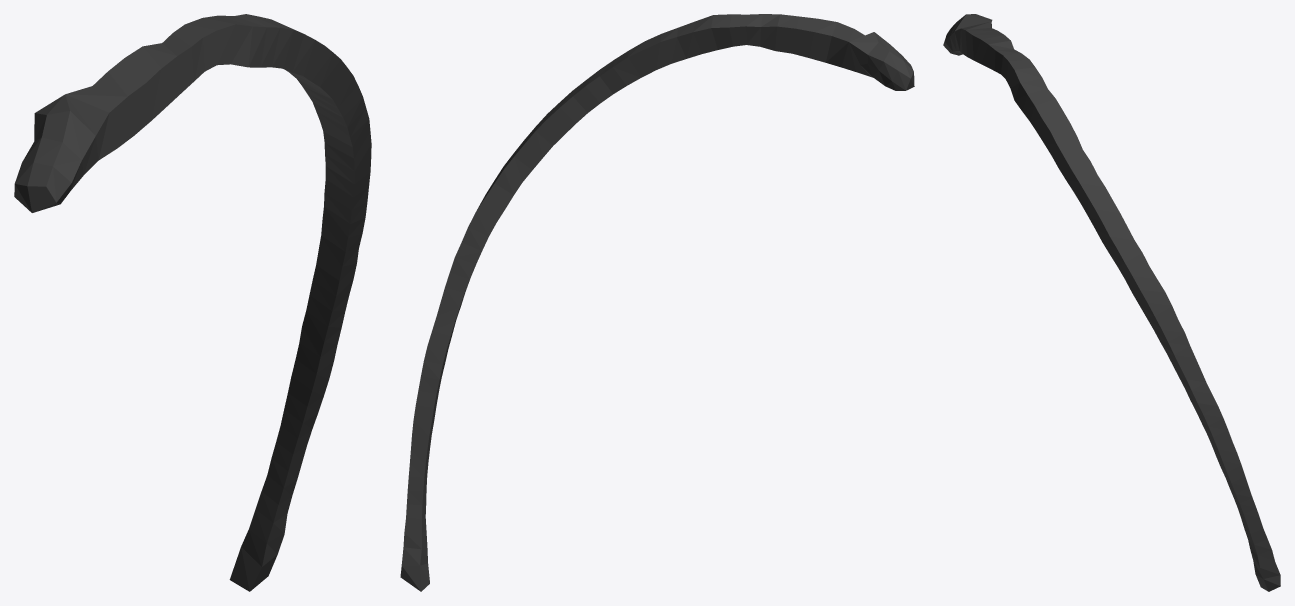
Rendered from Rib_11.glb.
3 renders of one model, left to right at view 1: azimuth 30°, elevation 25°; view 2: azimuth 150°, elevation 25°; view 3: azimuth 270°, elevation 25°, orthographic. The views are drawn at different scales.
Parts seen in each view (by area): view 1: Rib_11; view 2: Rib_11; view 3: Rib_11.
Part boxes in pixels (left/top/right/bottom): Rib_11: left=14, top=14, right=371, bottom=591; Rib_11: left=400, top=14, right=914, bottom=591; Rib_11: left=943, top=14, right=1280, bottom=591.
Size of the model in its own units: 4.56 by 6.32 by 4.24.
1 material, 1 textured.
